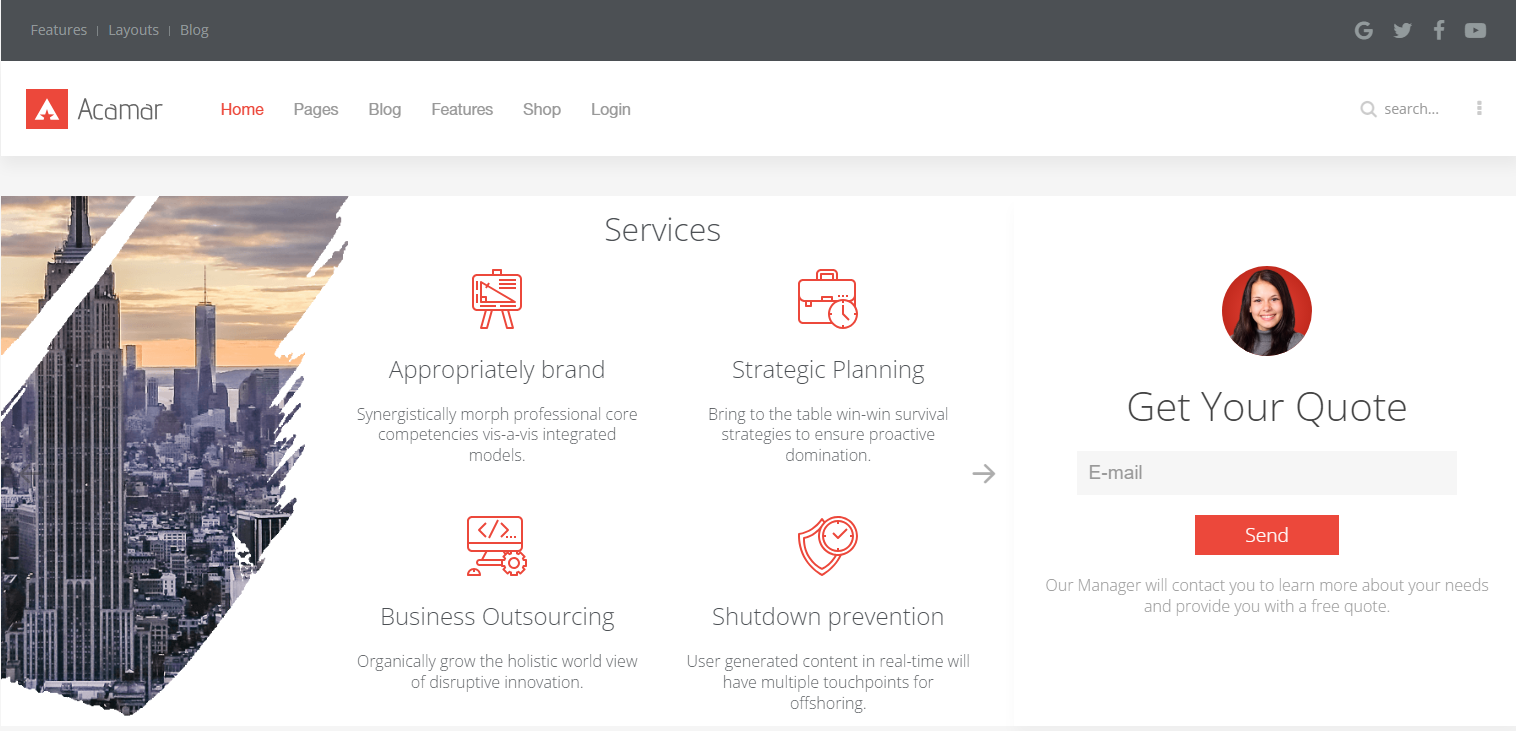menu-bar: (12, 3, 1512, 176)
